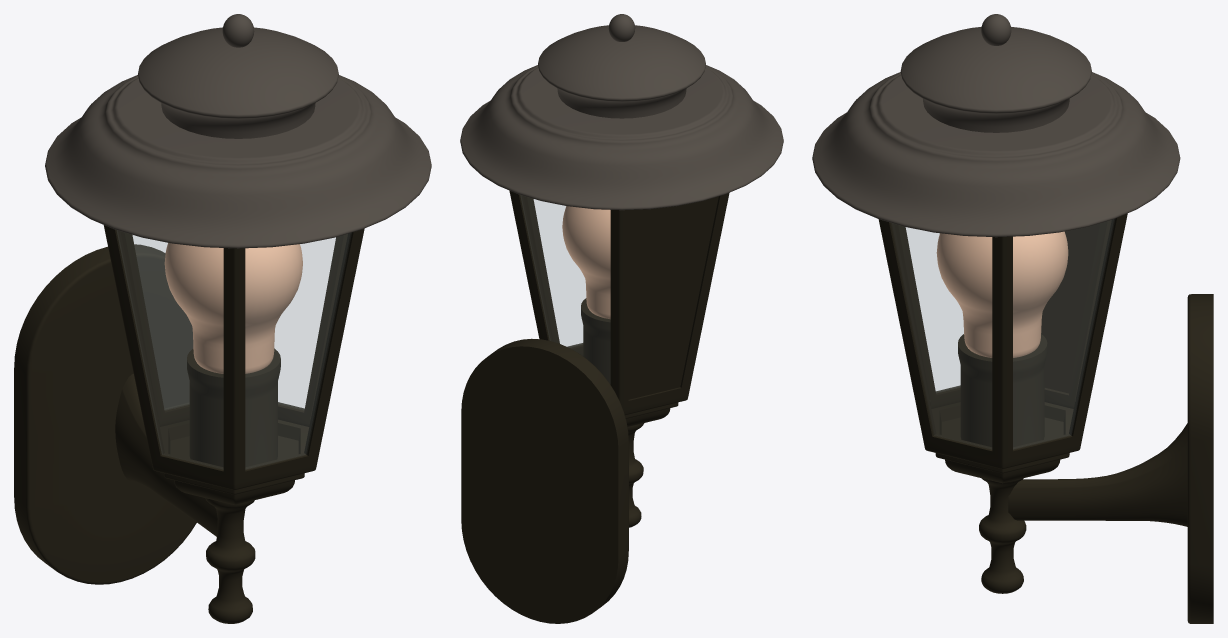
The model's file is Porch light2.fbx.
3 views of the same model, side by side, from view 1: azimuth 30°, elevation 25°; view 2: azimuth 150°, elevation 25°; view 3: azimuth 270°, elevation 25° (orthographic). The views are drawn at different scales.
Visible parts, largest first — view 1: 多边形_116; view 2: 多边形_116; view 3: 多边形_116.
Part boxes in pixels (left/top/right/bottom): 多边形_116: left=14, top=14, right=431, bottom=623; 多边形_116: left=460, top=14, right=783, bottom=623; 多边形_116: left=812, top=14, right=1213, bottom=623.
Size of the model in its own units: 4516 by 8210 by 4925.
